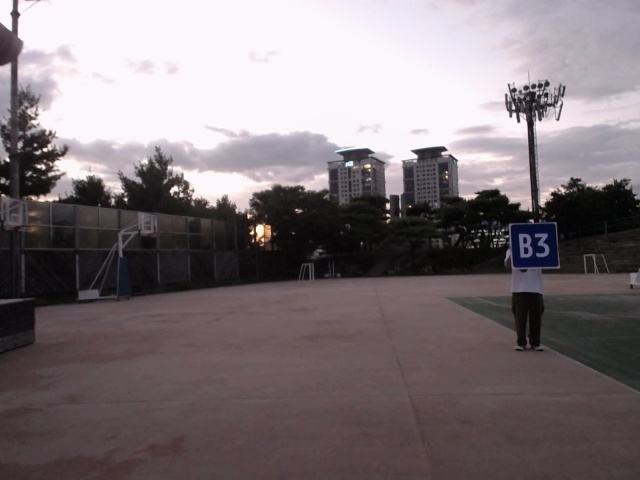delivery_b3: (509, 222, 561, 271)
